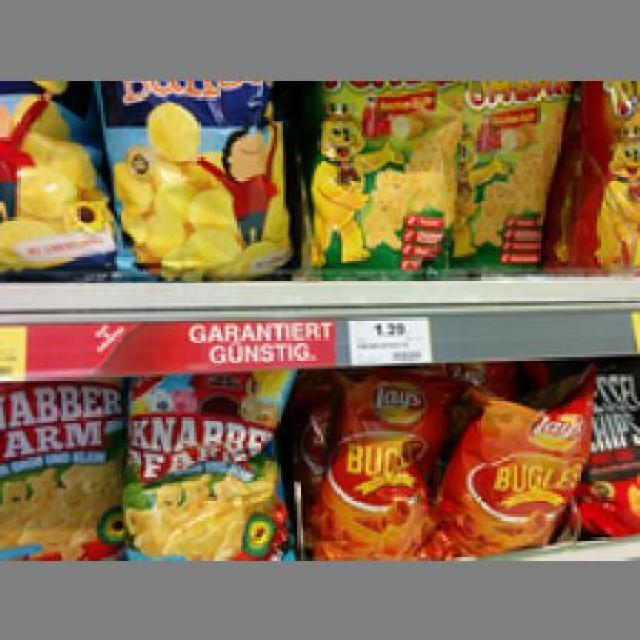Chips: (91, 78, 298, 272), (113, 374, 290, 560), (303, 80, 463, 277), (434, 374, 592, 554), (303, 374, 446, 554), (0, 73, 117, 270), (451, 80, 566, 274), (0, 383, 126, 554)
